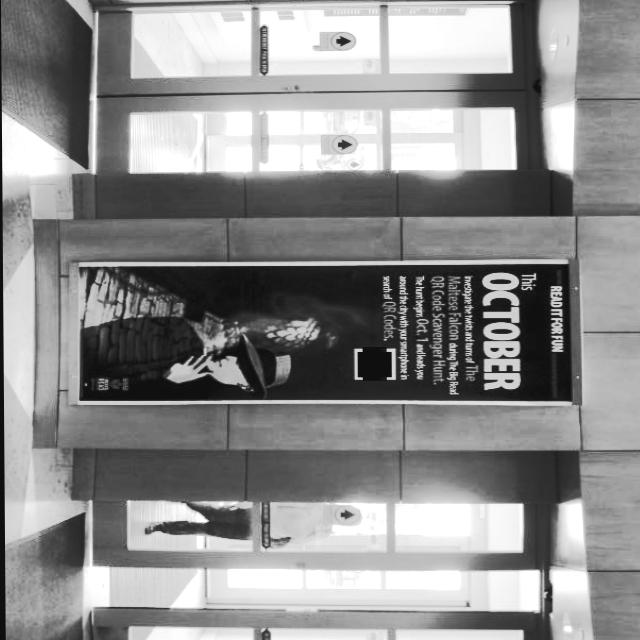qr_code: (358, 350, 388, 379)
